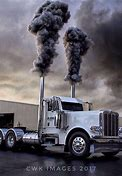smoke: (27, 1, 71, 76), (61, 25, 93, 82)
